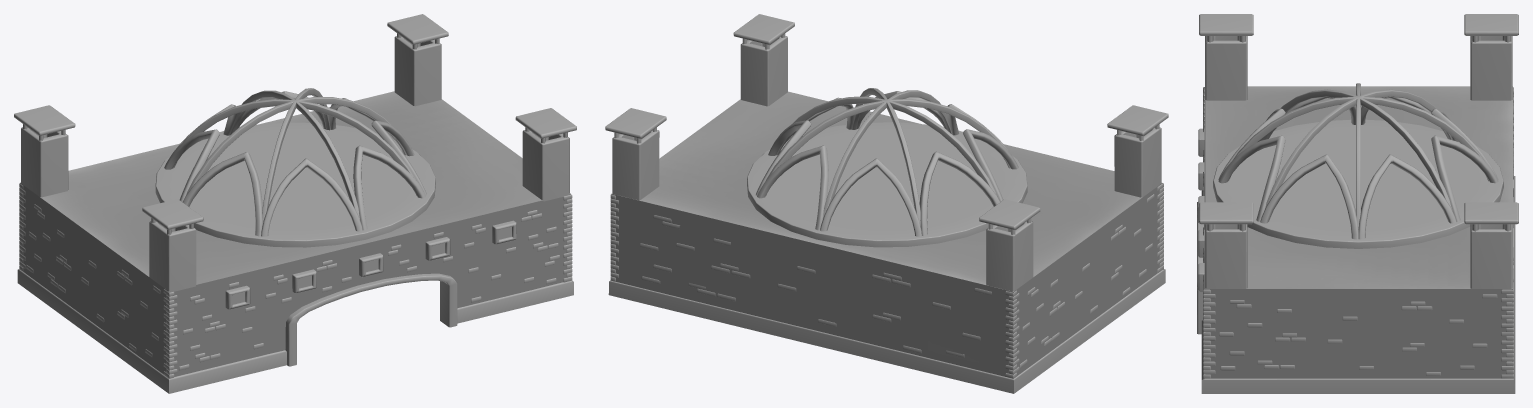
Rendered from kmu_outer_001.fbx.
3 views of the same model, side by side, from view 1: azimuth 30°, elevation 25°; view 2: azimuth 150°, elevation 25°; view 3: azimuth 270°, elevation 25° (orthographic). The views are drawn at different scales.
Visible parts, largest first — view 1: polySurface205, decoration_054, entrance_009, entrance_008, polySurface204, blocks, polySurface203, sideblock; view 2: polySurface205, decoration_054, polySurface204, entrance_008, entrance_009, blocks, sideblock; view 3: polySurface205, decoration_054, entrance_009, entrance_008, polySurface204, blocks, sideblock, polySurface203.
Part boxes in pixels (x1,y1,x2,y2): polySurface205: (20, 91, 570, 376); decoration_054: (155, 88, 435, 247); entrance_009: (142, 108, 576, 292); entrance_008: (14, 14, 448, 197); polySurface204: (17, 269, 573, 393); blocks: (26, 204, 559, 370); polySurface203: (285, 273, 457, 366); sideblock: (19, 183, 572, 378); polySurface205: (611, 91, 1162, 376); decoration_054: (747, 88, 1027, 247); polySurface204: (608, 269, 1165, 393); entrance_008: (605, 108, 1040, 291); entrance_009: (733, 14, 1168, 197); blocks: (640, 194, 1154, 367); sideblock: (610, 183, 1163, 378); polySurface205: (1204, 86, 1512, 378); decoration_054: (1213, 83, 1503, 248); entrance_009: (1199, 14, 1253, 288); entrance_008: (1464, 14, 1518, 288); polySurface204: (1201, 176, 1515, 393); blocks: (1198, 102, 1513, 375); sideblock: (1203, 87, 1513, 378); polySurface203: (1197, 202, 1203, 334).
Bounding box in the file's own units: 36.91 × 16.21 × 24.26.
2 materials, 1 textured.
